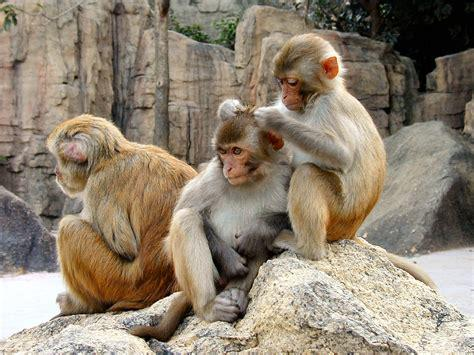monkey: (219, 33, 385, 257), (132, 111, 287, 340), (47, 114, 199, 312)
